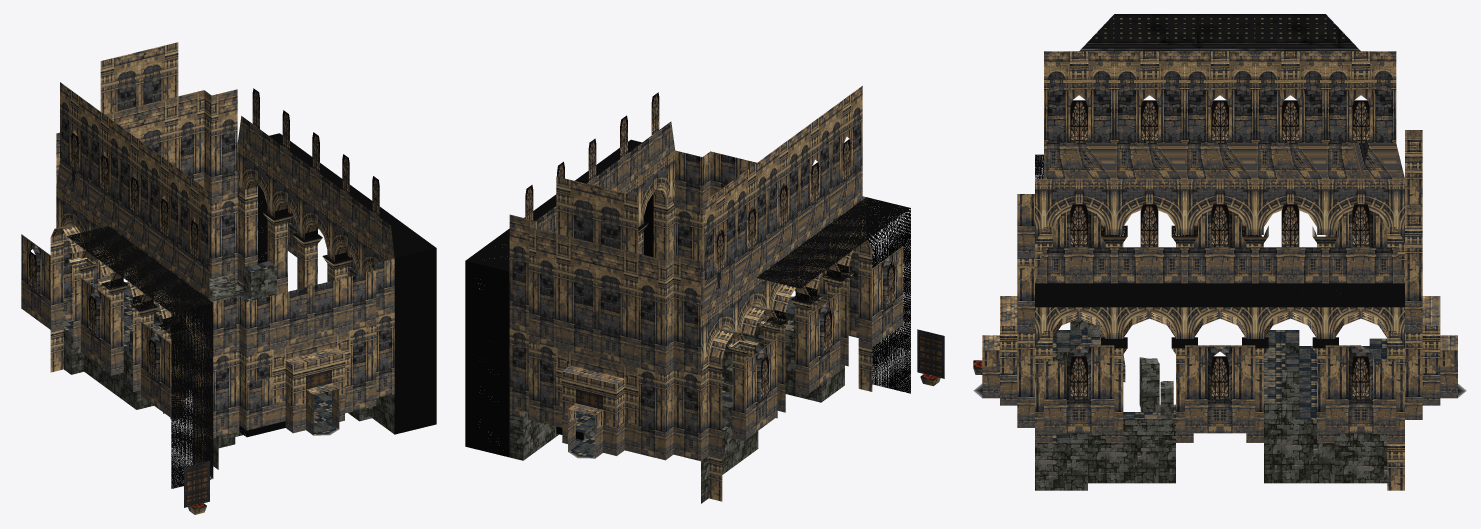
Rendered from MAP134.obj.
The picture shows the model from 3 angles, left to right: view 1: azimuth 30°, elevation 25°; view 2: azimuth 150°, elevation 25°; view 3: azimuth 270°, elevation 25°; orthographic projection. The views are drawn at different scales.
Visible parts, largest first — view 1: mesh_32, mesh_45, mesh_41, mesh_51, mesh_60, mesh_24, mesh_67, mesh_25, mesh_22, mesh_63, mesh_37, mesh_29 (+24 smaller); view 2: mesh_32, mesh_51, mesh_41, mesh_45, mesh_67, mesh_19, mesh_63, mesh_24, mesh_37, mesh_20, mesh_33, mesh_22 (+22 smaller); view 3: mesh_32, mesh_24, mesh_37, mesh_33, mesh_64, mesh_36, mesh_41, mesh_25, mesh_54, mesh_11, mesh_26, mesh_35 (+18 smaller).
Part boxes in pixels (x1,y1,x2,y2): mesh_32: [50, 82, 213, 477]; mesh_45: [67, 226, 213, 488]; mesh_41: [258, 133, 436, 434]; mesh_51: [100, 42, 204, 201]; mesh_60: [246, 270, 376, 355]; mesh_24: [237, 116, 394, 288]; mesh_67: [21, 234, 170, 417]; mesh_25: [237, 144, 394, 274]; mesh_22: [204, 89, 237, 280]; mesh_63: [50, 264, 213, 436]; mesh_37: [63, 329, 394, 469]; mesh_29: [246, 358, 376, 435]; mesh_32: [701, 86, 872, 501]; mesh_51: [529, 176, 665, 374]; mesh_41: [465, 139, 653, 457]; mesh_45: [756, 197, 910, 393]; mesh_67: [745, 246, 903, 439]; mesh_19: [665, 254, 700, 461]; mesh_63: [701, 279, 872, 460]; mesh_24: [535, 121, 675, 260]; mesh_37: [523, 310, 844, 503]; mesh_20: [529, 385, 665, 460]; mesh_33: [701, 198, 865, 373]; mesh_22: [509, 214, 536, 417]; mesh_32: [1035, 51, 1404, 282]; mesh_24: [1035, 247, 1404, 490]; mesh_37: [1035, 371, 1387, 490]; mesh_33: [1035, 179, 1404, 242]; mesh_64: [1044, 345, 1396, 433]; mesh_36: [1079, 14, 1360, 51]; mesh_41: [1035, 283, 1404, 307]; mesh_25: [1035, 290, 1404, 346]; mesh_54: [1035, 348, 1404, 442]; mesh_11: [1052, 329, 1386, 442]; mesh_26: [1070, 204, 1369, 247]; mesh_35: [1070, 100, 1369, 142].
Bounding box in the file's own units: 272 × 339 × 358.
11 materials, 11 textured.
